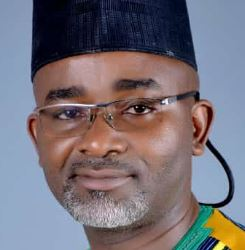without_facemask: (42, 141, 185, 238)
